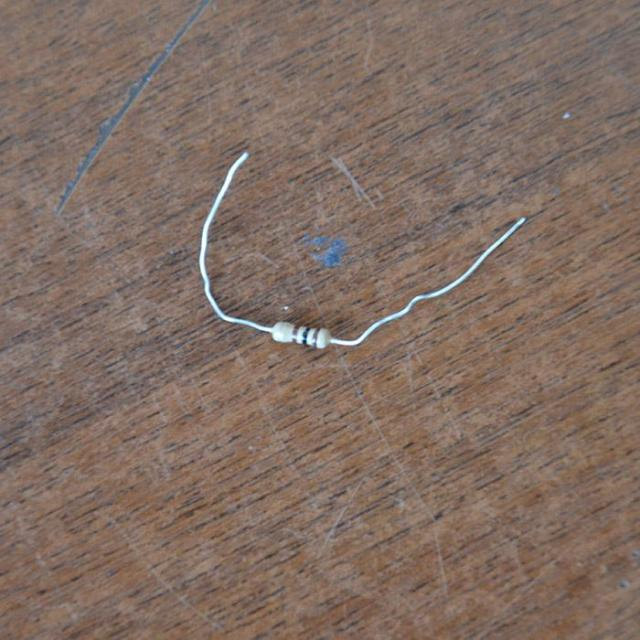Resistor: (272, 322, 331, 348)
black: (302, 328, 311, 345)
brown: (313, 328, 321, 348), (293, 326, 299, 344)
